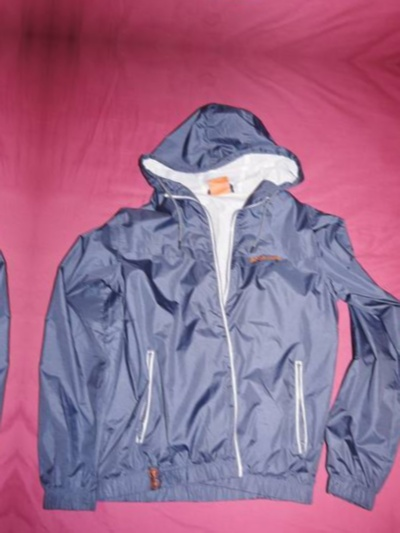Hoodie: (14, 76, 400, 521), (0, 44, 47, 490), (53, 0, 400, 29)
